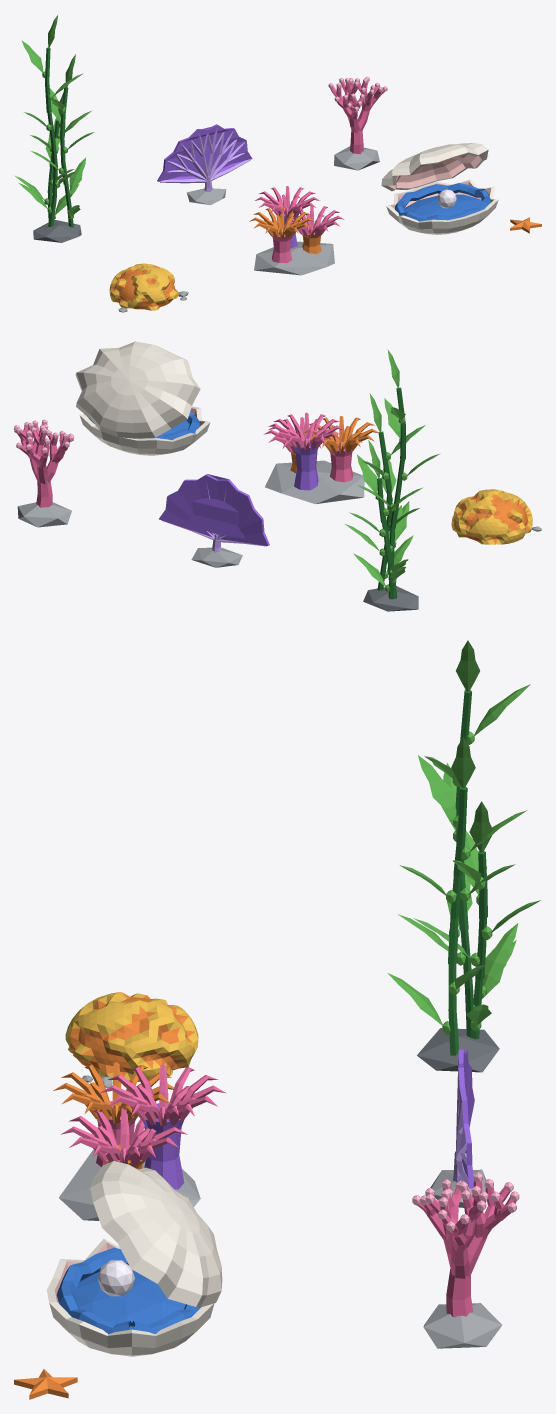
The model's file is reef-kelp-and-coral-set.glb.
The picture shows the model from 3 angles, top to bottom: view 1: azimuth 30°, elevation 25°; view 2: azimuth 150°, elevation 25°; view 3: azimuth 270°, elevation 25°; orthographic projection. The views are drawn at different scales.
Parts seen in each view (by area): view 1: Fan, Lid, Brain_Coral, Clam_Mantle, Clam_Shell_Bottom, Branching_Coral, Anemone_Rock, Anemone_A_Tentacles, Anemone_C_Tentacles, Kelp_A_Seg3, Kelp_Rock, Branching_Rock (+9 smaller); view 2: Lid, Fan, Brain_Coral, Branching_Coral, Anemone_Rock, Clam_Shell_Bottom, Anemone_C_Tentacles, Anemone_A_Tentacles, Branching_Rock, Kelp_A_Seg3, Kelp_Rock, Anemone_C_Body (+12 smaller); view 3: Lid, Brain_Coral, Branching_Coral, Clam_Mantle, Clam_Shell_Bottom, Anemone_C_Tentacles, Anemone_B_Tentacles, Kelp_B_Seg3, Branching_Rock, Anemone_A_Tentacles, Kelp_Rock, Fan (+12 smaller).
Part boxes in pixels (left/top/right/bottom): Fan: left=157, top=124, right=252, bottom=192; Lid: left=381, top=143, right=488, bottom=191; Brain_Coral: left=109, top=263, right=178, bottom=310; Clam_Mantle: left=395, top=183, right=490, bottom=221; Clam_Shell_Bottom: left=386, top=179, right=498, bottom=234; Branching_Coral: left=328, top=76, right=387, bottom=154; Anemone_Rock: left=254, top=241, right=334, bottom=275; Anemone_A_Tentacles: left=249, top=206, right=314, bottom=238; Anemone_C_Tentacles: left=254, top=186, right=320, bottom=218; Kelp_A_Seg3: left=21, top=15, right=83, bottom=112; Kelp_Rock: left=33, top=219, right=81, bottom=242; Branching_Rock: left=334, top=146, right=379, bottom=170; Lid: left=75, top=341, right=200, bottom=438; Fan: left=159, top=474, right=269, bottom=552; Brain_Coral: left=451, top=489, right=532, bottom=544; Branching_Coral: left=14, top=419, right=74, bottom=507; Anemone_Rock: left=265, top=460, right=364, bottom=504; Clam_Shell_Bottom: left=79, top=406, right=210, bottom=455; Anemone_C_Tentacles: left=268, top=412, right=345, bottom=450; Anemone_A_Tentacles: left=303, top=416, right=378, bottom=453; Branching_Rock: left=17, top=502, right=71, bottom=527; Kelp_A_Seg3: left=384, top=349, right=405, bottom=460; Kelp_Rock: left=363, top=586, right=418, bottom=611; Anemone_C_Body: left=294, top=437, right=318, bottom=490; Lid: left=90, top=1161, right=222, bottom=1307; Brain_Coral: left=65, top=992, right=198, bottom=1081; Branching_Coral: left=412, top=1172, right=519, bottom=1317; Clam_Mantle: left=56, top=1247, right=200, bottom=1334; Clam_Shell_Bottom: left=46, top=1239, right=214, bottom=1356; Anemone_C_Tentacles: left=99, top=1064, right=226, bottom=1126; Anemone_B_Tentacles: left=60, top=1108, right=187, bottom=1166; Kelp_B_Seg3: left=418, top=737, right=527, bottom=876; Branching_Rock: left=423, top=1303, right=501, bottom=1348; Anemone_A_Tentacles: left=53, top=1062, right=174, bottom=1123; Kelp_Rock: left=417, top=1028, right=499, bottom=1072; Fan: left=453, top=1049, right=474, bottom=1188.
Size of the model in its own units: 30.16 by 15.37 by 17.66.
